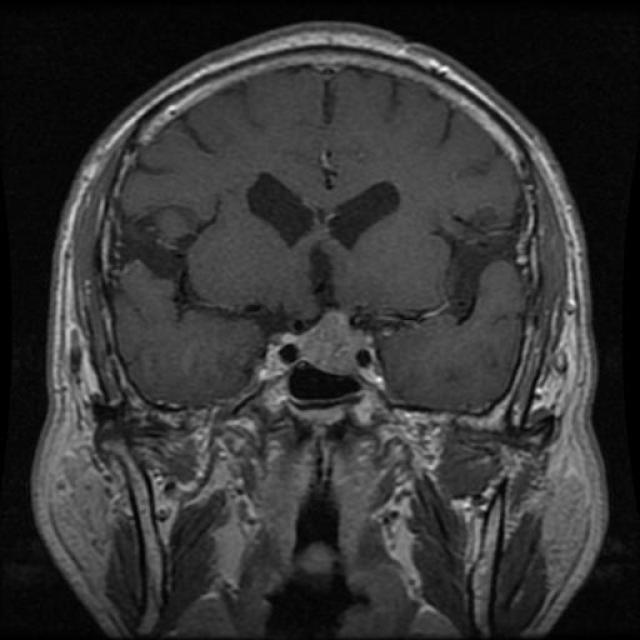pituitary: (264, 307, 383, 387)
